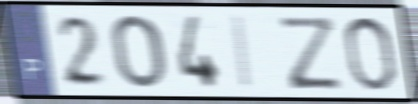2: (56, 13, 109, 89)
4: (177, 13, 223, 91)
I: (231, 13, 256, 92)
O: (109, 12, 168, 91), (341, 14, 399, 93)
Z: (276, 13, 346, 92)
